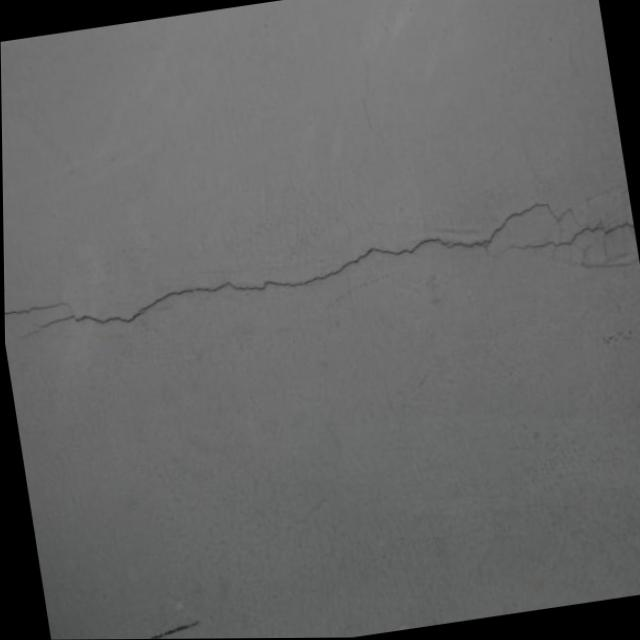Crack: (2, 179, 633, 380)
